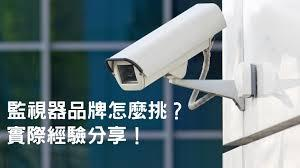Monitor: (98, 4, 269, 150)
